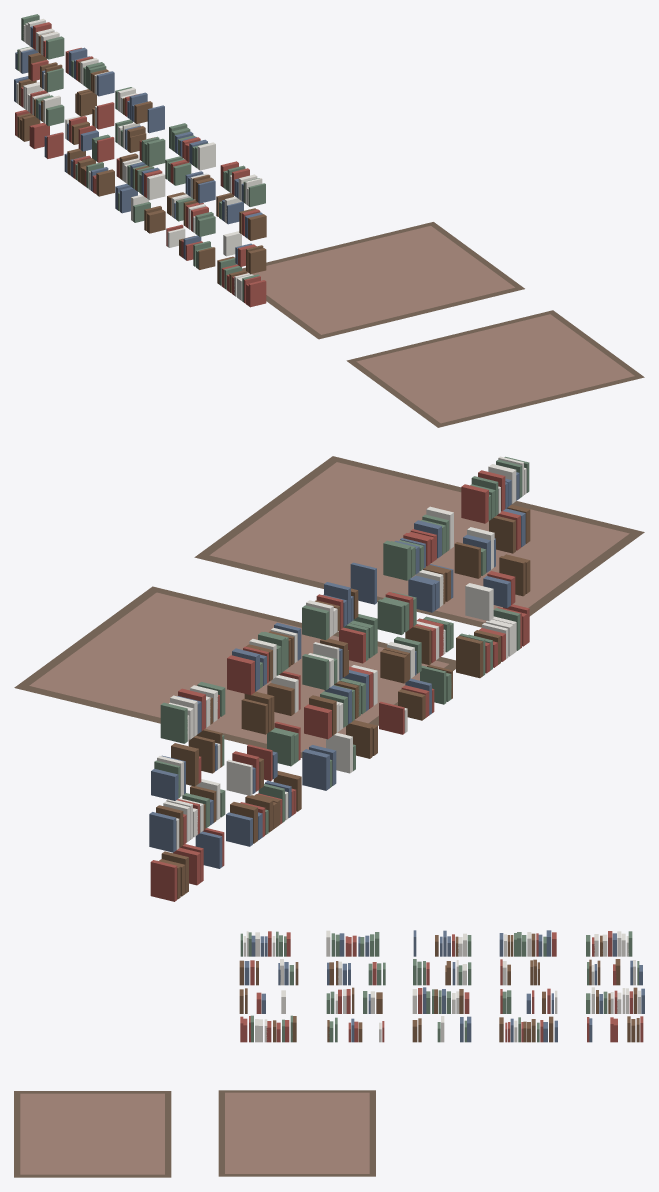
The model's file is fine-s1.glb.
The picture shows the model from 3 angles, top to bottom: view 1: azimuth 30°, elevation 25°; view 2: azimuth 150°, elevation 25°; view 3: azimuth 270°, elevation 25°; orthographic projection. The views are drawn at different scales.
Parts seen in each view (by area): view 1: soft-s1; view 2: soft-s1; view 3: soft-s1.
Boxes of the visible parts, left/top/right/bottom form: soft-s1: left=14, top=14, right=644, bottom=427; soft-s1: left=14, top=456, right=644, bottom=901; soft-s1: left=14, top=930, right=644, bottom=1177.
Bounding box in the file's own units: 3.3 × 1.93 × 8.02.
